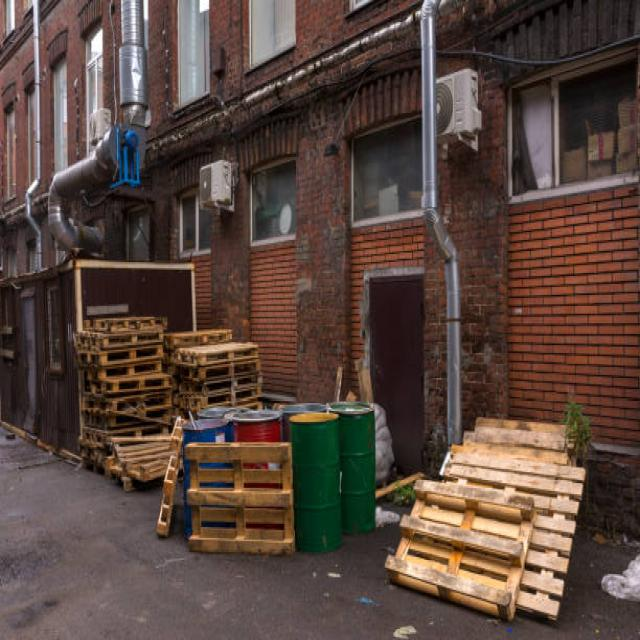Wooden-Pallets: (381, 475, 542, 629), (182, 439, 292, 568), (191, 334, 259, 384), (98, 341, 160, 375)
